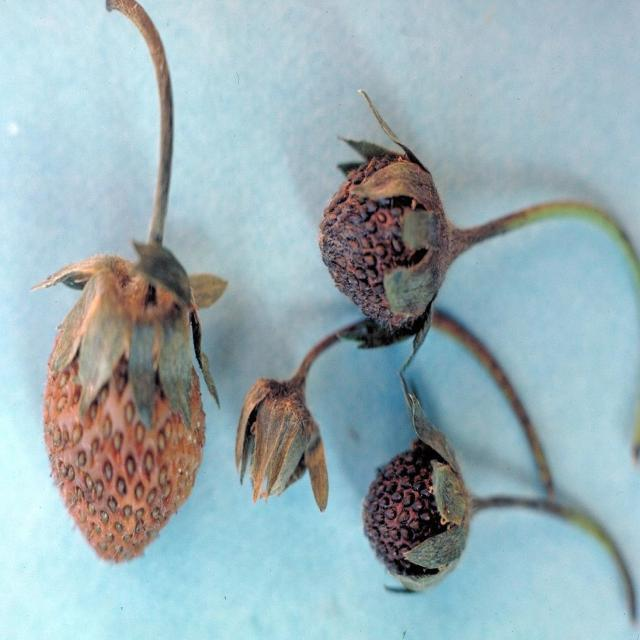Podredumbre de cuero: (44, 255, 208, 570), (317, 130, 449, 342), (359, 437, 472, 593)
